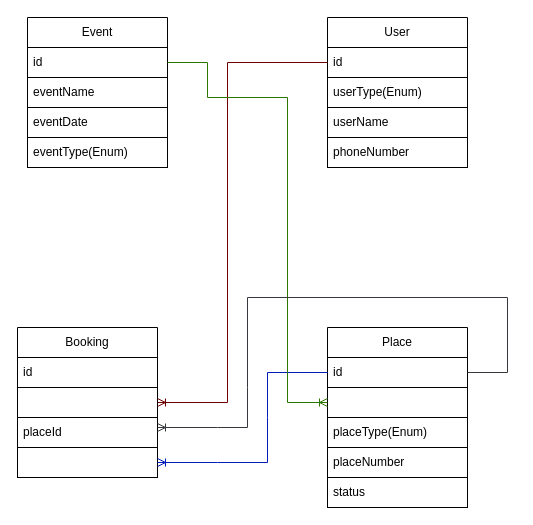
The diagram is 533 pixels wide and 525 high, and some of its shapes have lost their labels. Here are the shapes that lost their labels. From the top down, the centre of each, then its label:
the point at 87,402: userId
the point at 397,402: eventId
the point at 87,462: bookingStatus
